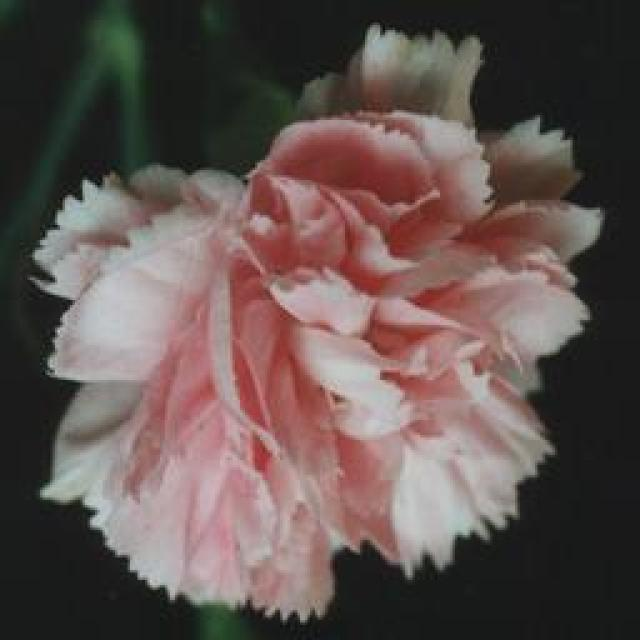carnation: (21, 28, 617, 615)
